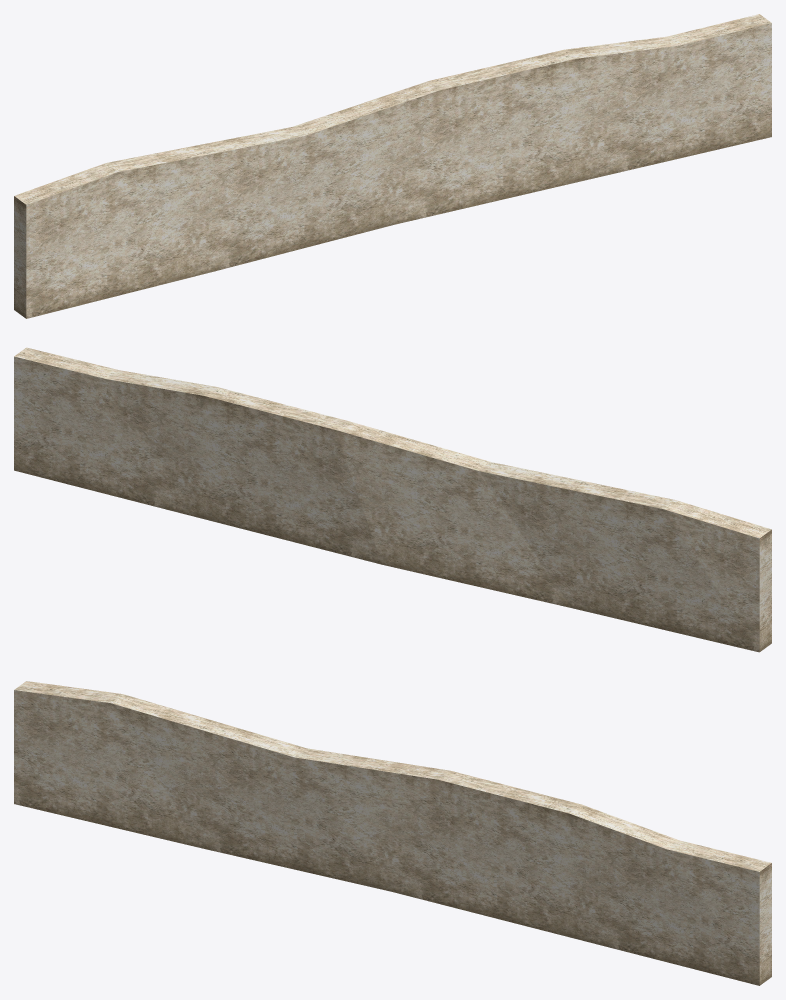
The model's file is thm_tato_jnkshp_wall_l2.fbx.
3 renders of one model, top to bottom at view 1: azimuth 30°, elevation 25°; view 2: azimuth 150°, elevation 25°; view 3: azimuth 330°, elevation 25°, orthographic.
Parts seen in each view (by area): view 1: mesh_node; view 2: mesh_node; view 3: mesh_node.
Boxes of the visible parts, left/top/right/bottom form: mesh_node: left=14, top=14, right=771, bottom=318; mesh_node: left=14, top=347, right=771, bottom=652; mesh_node: left=14, top=681, right=771, bottom=985.
Size of the model in its own units: 20 by 3.17 by 0.7837.
